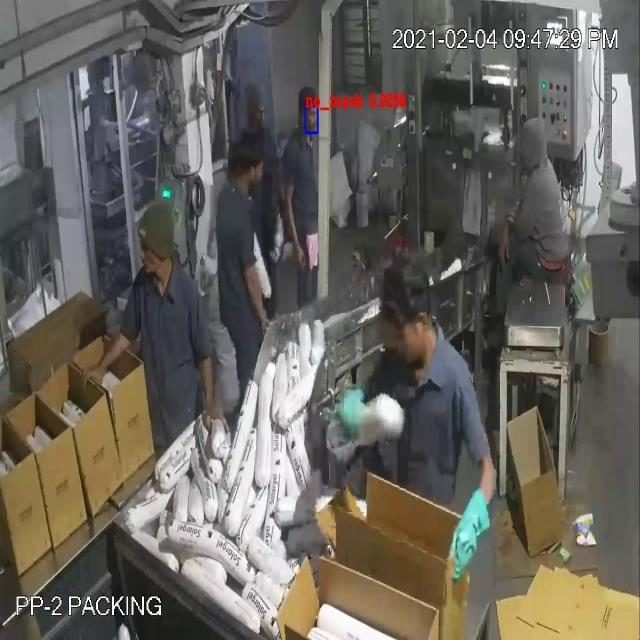No_Gloves: (24, 62, 506, 536)
